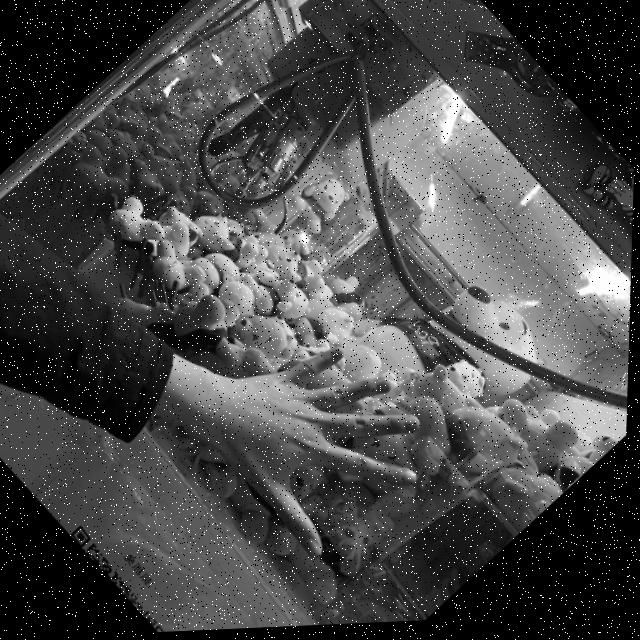hand: (188, 300, 457, 574)
